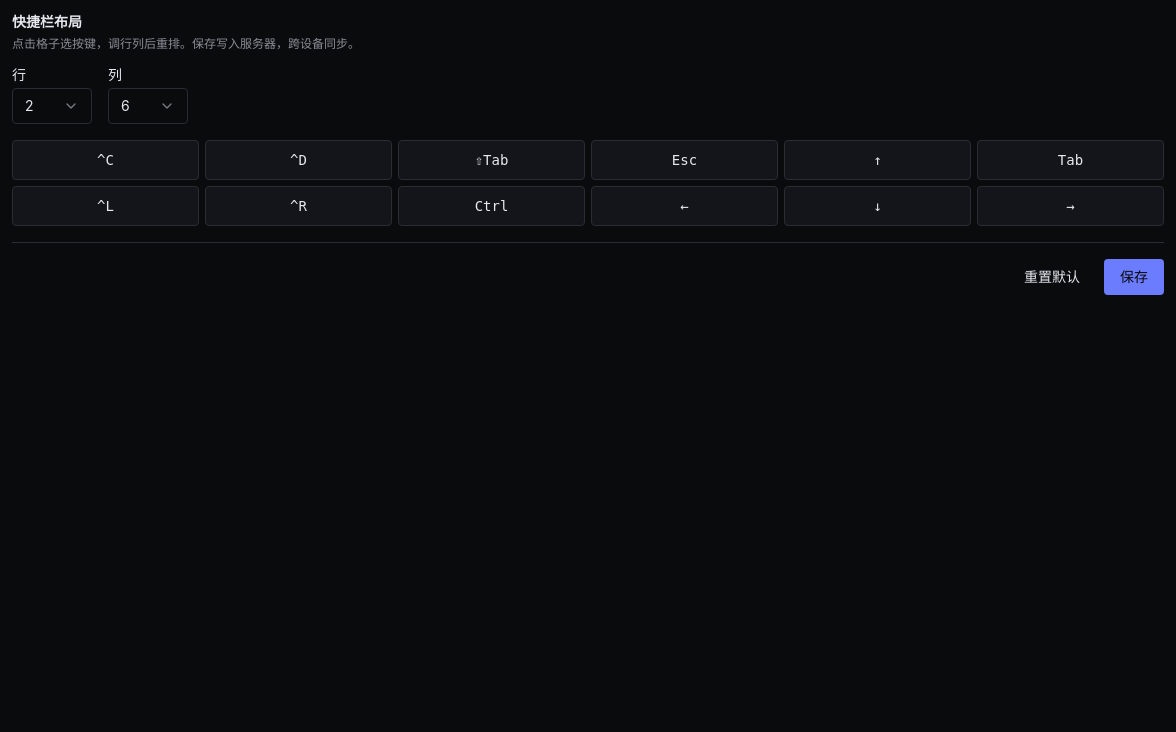
Test case: ToolbarConfigSection › picking from catalog updates the cell label
Click the button "^C": (106, 160) [12,140,199,180]
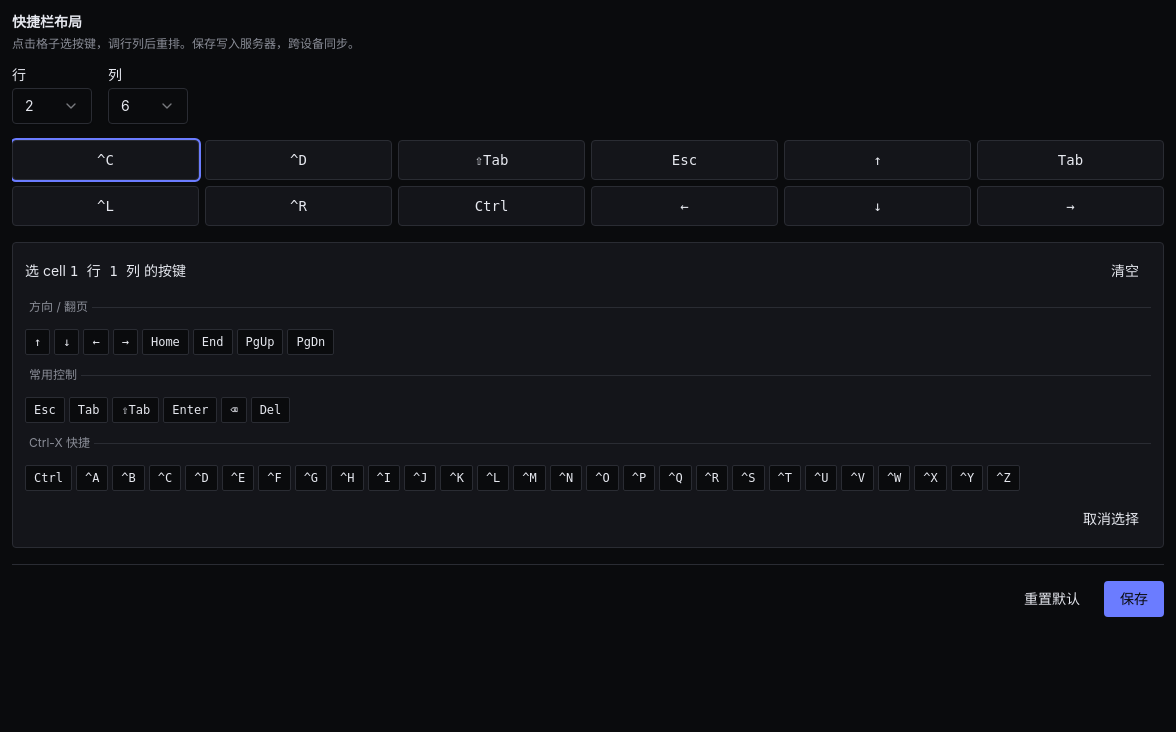
Expected: the button "Esc" below "常用控制" is shown
Click the button "Esc" below "常用控制": (45, 410) [25,397,65,423]
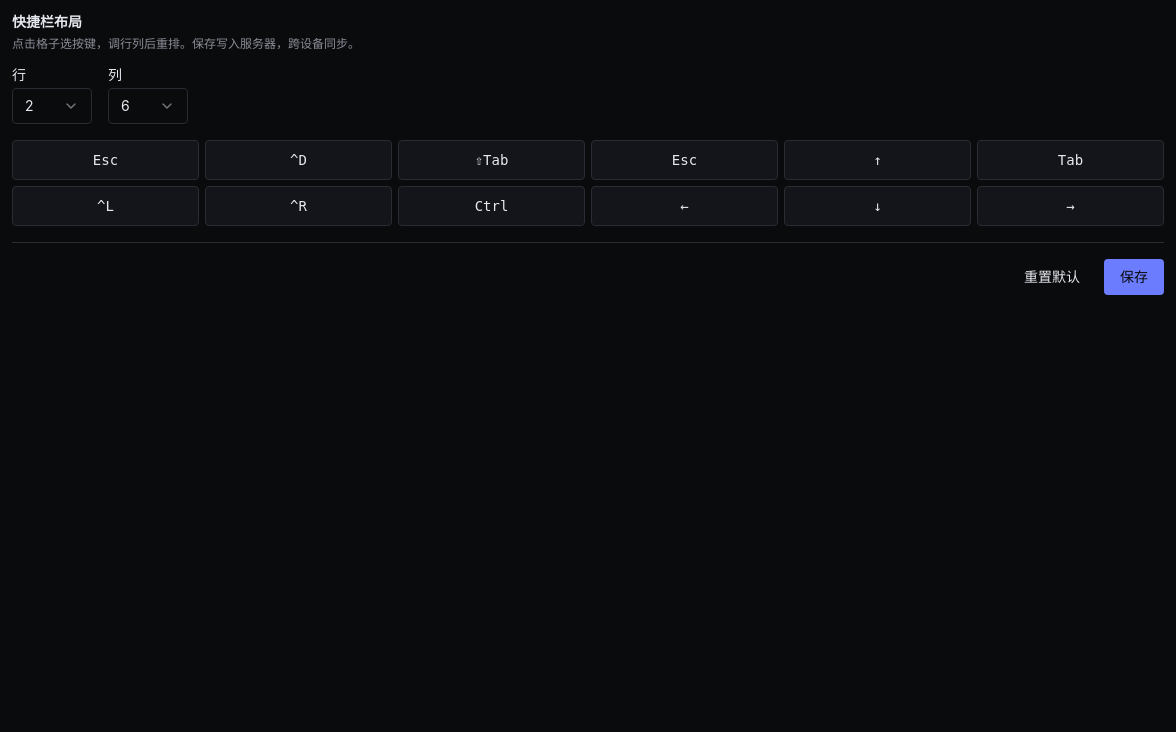
Expected: the text "方向 / 翻页" is gone
Expected: the 1st button "Esc" is shown, [12,140,199,180]
